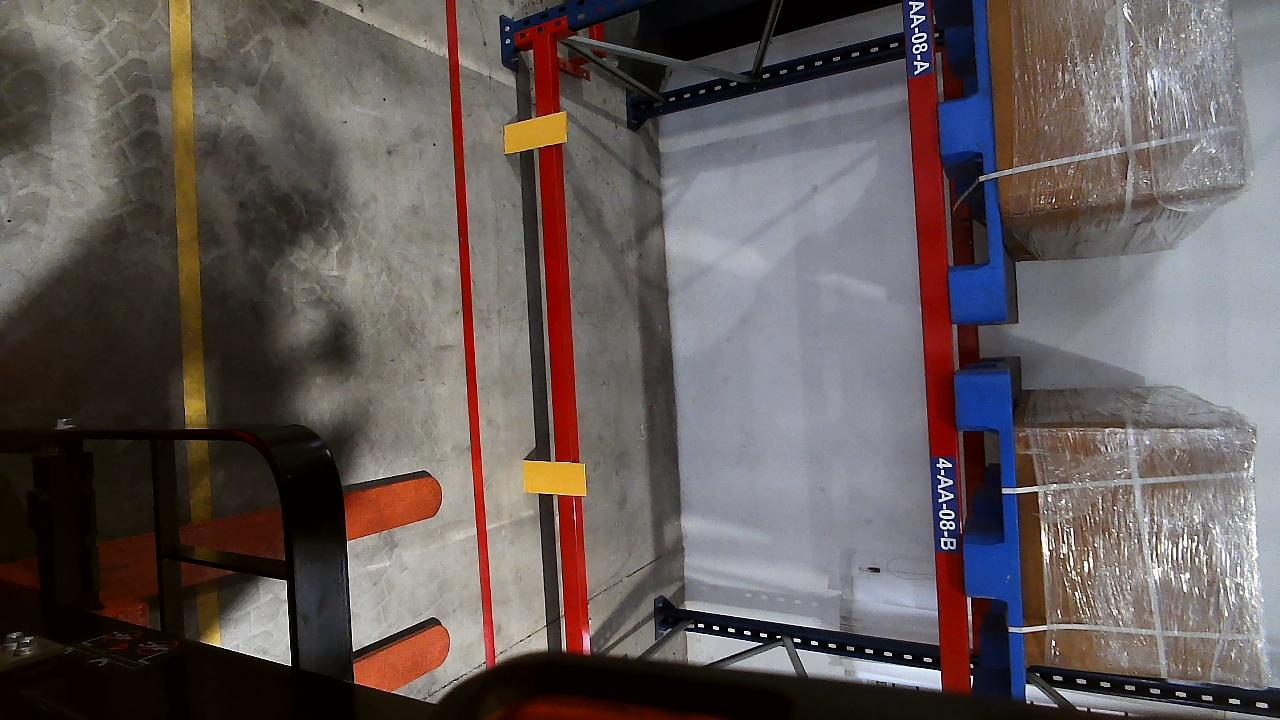h_rack: (907, 0, 967, 695), (532, 33, 584, 638)
orange_strip: (503, 111, 567, 153), (521, 459, 585, 494)
red_line: (446, 0, 495, 663)
small_pallet: (955, 369, 1030, 694), (945, 6, 1019, 318)
yellow_line: (166, 2, 206, 427)
